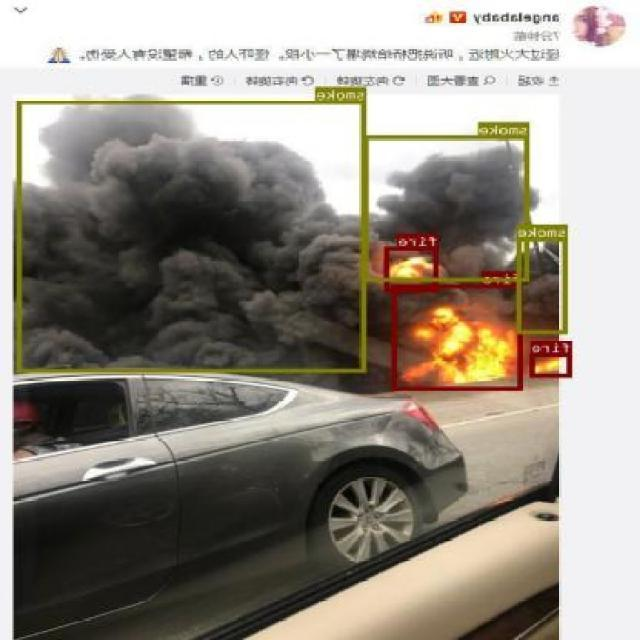Fire: (364, 134, 530, 280), (393, 284, 524, 390), (386, 246, 440, 292), (532, 352, 574, 377)
Smoke: (18, 99, 367, 372), (518, 238, 568, 334)
